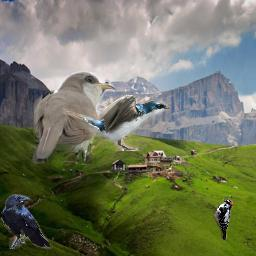Crow: (1, 194, 52, 249)
Cuckoo: (30, 71, 115, 165)
Swallow: (62, 93, 171, 151)
Woodpecker: (214, 198, 233, 240)
